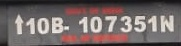character: (35, 16, 49, 35), (159, 14, 173, 33), (89, 15, 102, 34), (104, 14, 117, 33), (119, 14, 132, 33), (50, 16, 63, 34), (133, 14, 146, 32), (77, 16, 88, 33), (25, 17, 35, 35), (147, 15, 157, 33)
